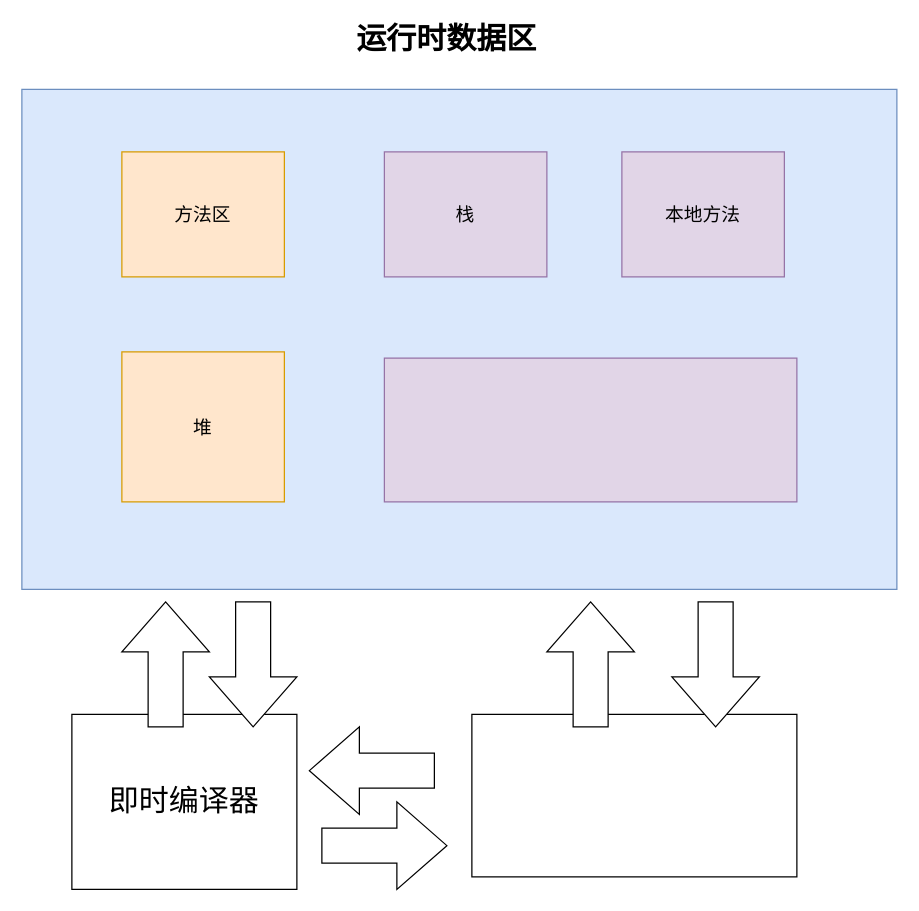
This 919x911 diagram has some shape labels left out. Each missing label, with the centre of its shape:
本地方法栈: the point at 634,795
程序寄存器: the point at 590,429
